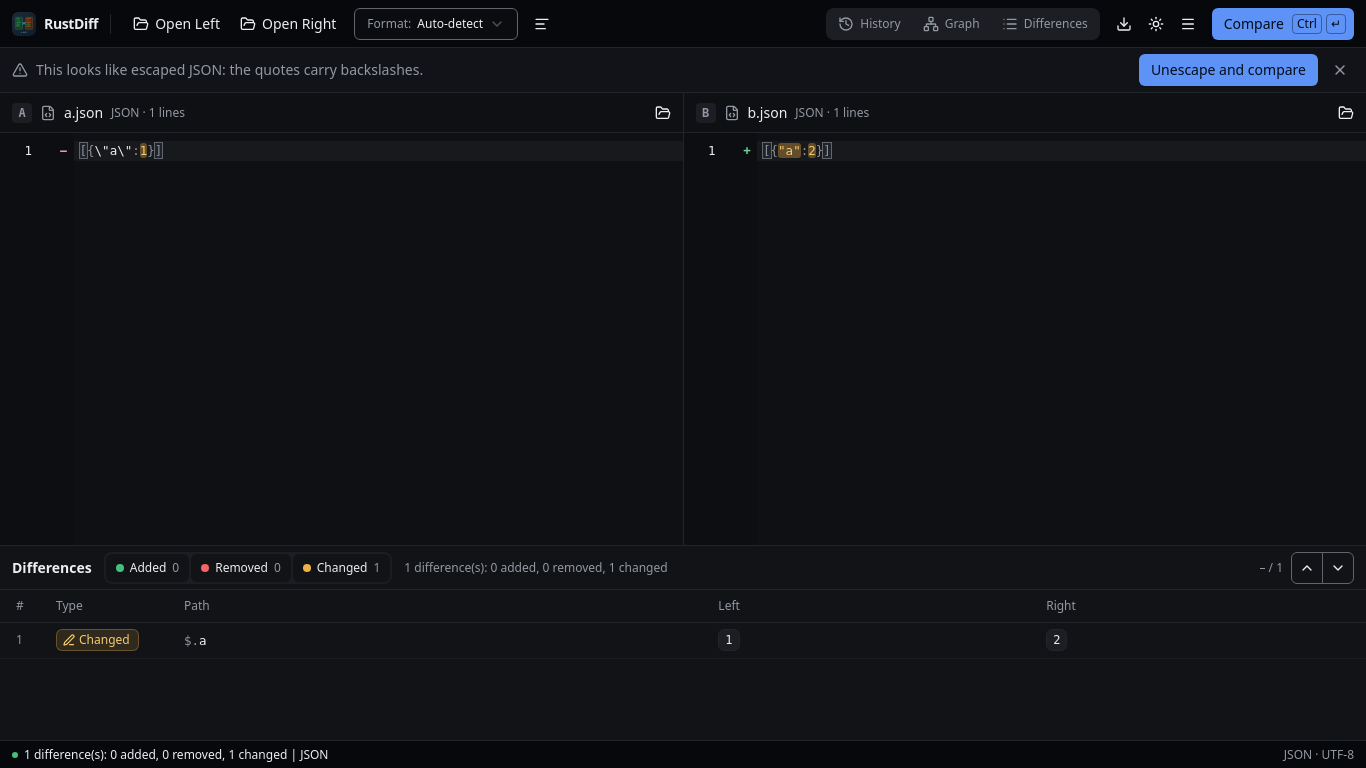
Test: App › ofrece desescapar un JSON con comillas escapadas
Expected: the text "This looks like escaped JSON: the quotes carry backslashes." is shown, x1=36 y1=60 x2=423 y2=79
Click the button "Unescape and compare". click: (1228, 70)
box: x1=1139 y1=54 x2=1318 y2=86
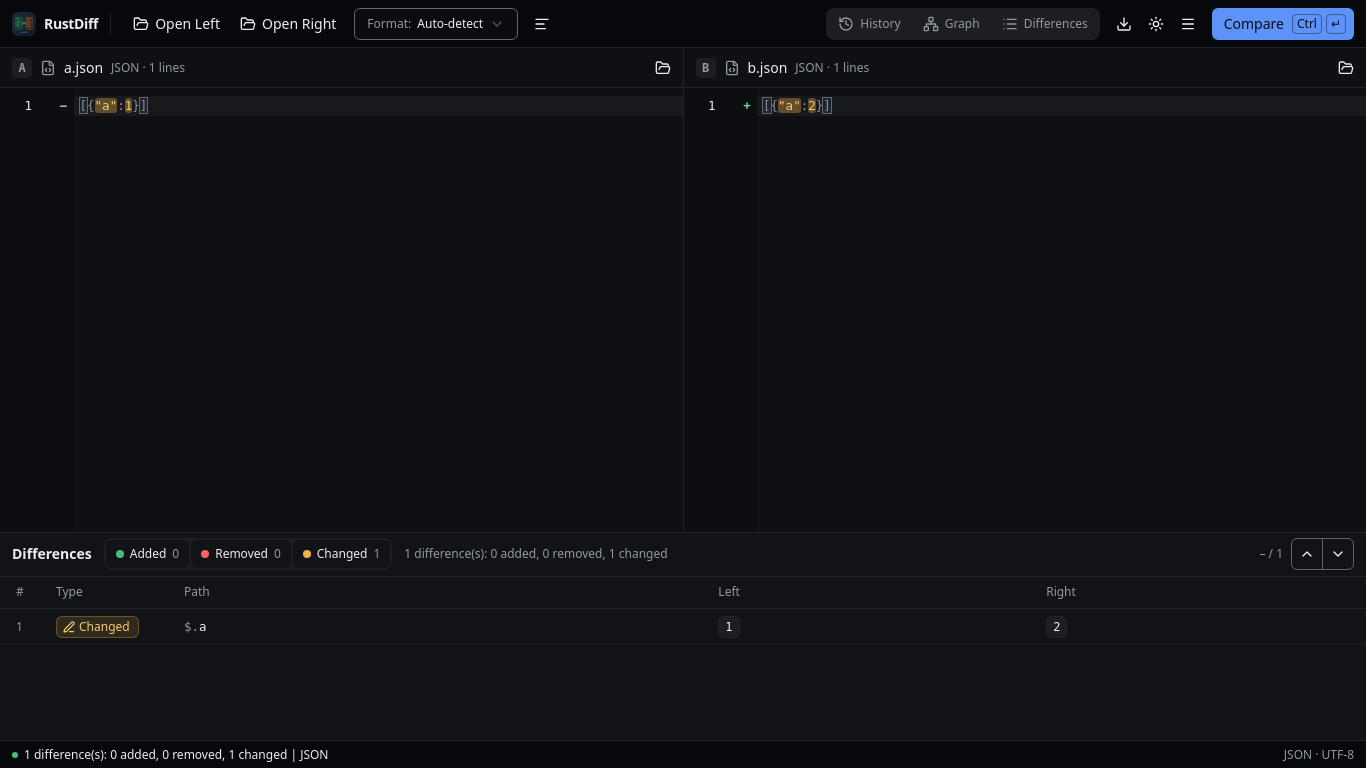
Result: the text "This looks like escaped JSON: the quotes carry backslashes." is gone
